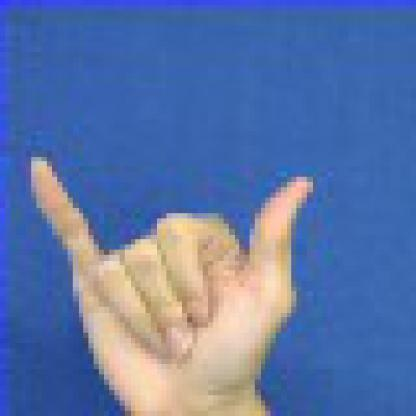six: (16, 126, 339, 415)
